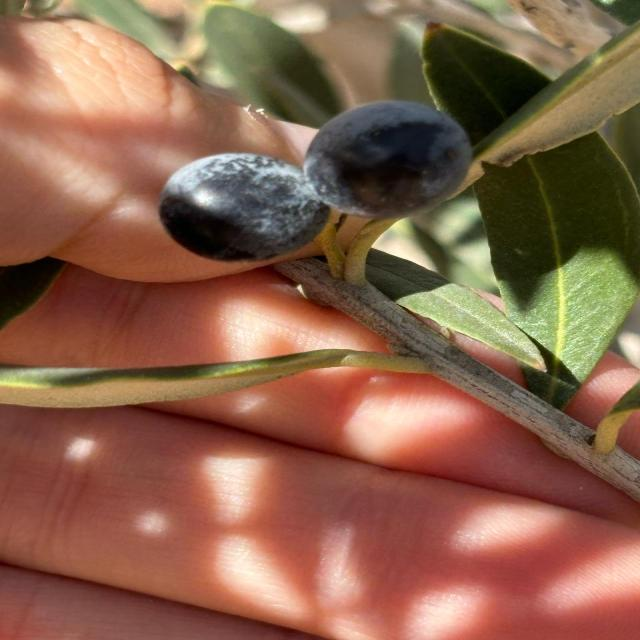Healthy: (159, 101, 471, 261)
